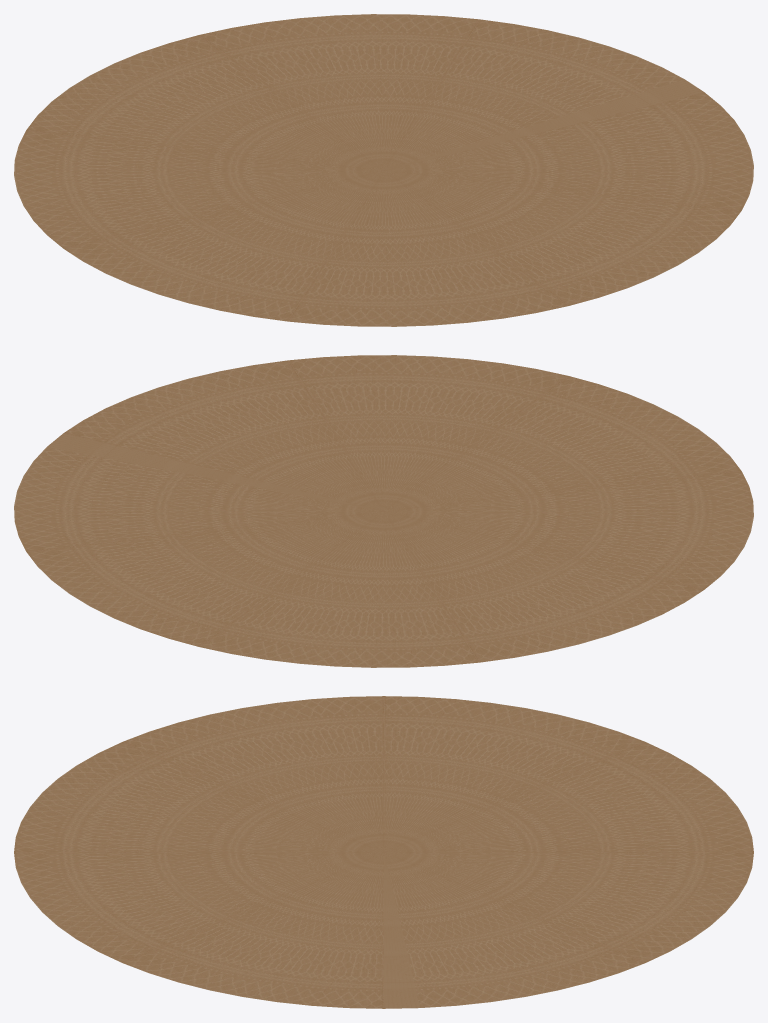
The model's file is rug_round_maple.glb.
The picture shows the model from 3 angles, top to bottom: view 1: azimuth 30°, elevation 25°; view 2: azimuth 150°, elevation 25°; view 3: azimuth 270°, elevation 25°; orthographic projection.
Parts seen in each view (by area): view 1: RoundRug; view 2: RoundRug; view 3: RoundRug.
Boxes of the visible parts, left/top/right/bottom form: RoundRug: left=14, top=14, right=753, bottom=326; RoundRug: left=14, top=355, right=753, bottom=667; RoundRug: left=14, top=696, right=753, bottom=1008.
Size of the model in its own units: 2 by 0 by 2.
Materials: 1 (1 with a texture image).
